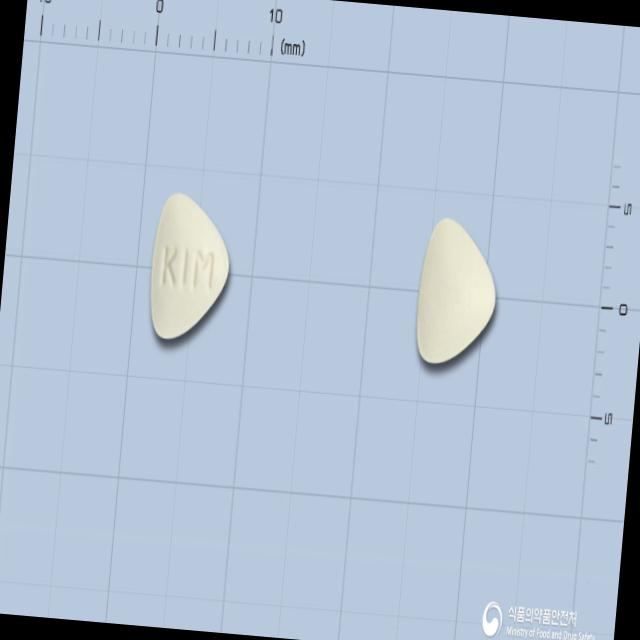Kimara: (145, 190, 236, 345)
